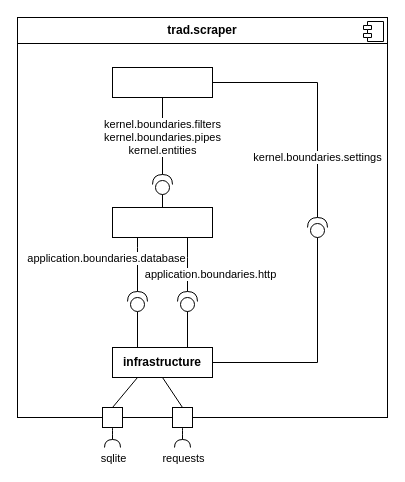
Some shapes in this 405 by 482 pixel diagram are drawn without their labels. The centre of each missing label's shape, as x and y in pixels:
"application" goes at (162,222).
"kernel" goes at (162,82).
